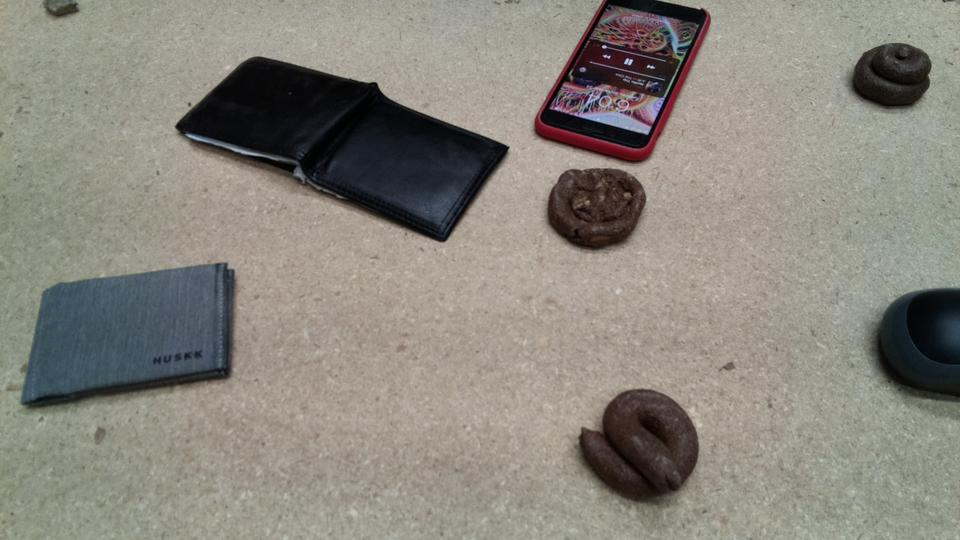poop: (577, 385, 702, 503), (546, 165, 649, 254), (851, 41, 934, 110)
